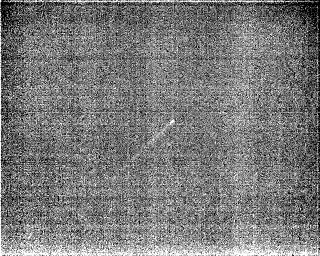AIRPLANE: (129, 118, 176, 160)
